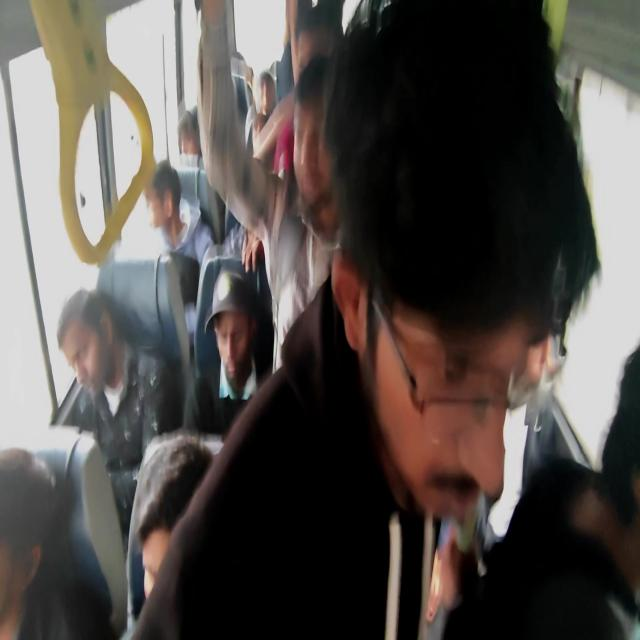person: (350, 63, 596, 592), (129, 427, 221, 614), (46, 308, 170, 440), (188, 246, 269, 396), (0, 467, 58, 639), (291, 78, 351, 205), (283, 0, 329, 109), (140, 154, 174, 242), (245, 51, 275, 126), (171, 100, 204, 167), (252, 109, 276, 172), (228, 44, 254, 80)
